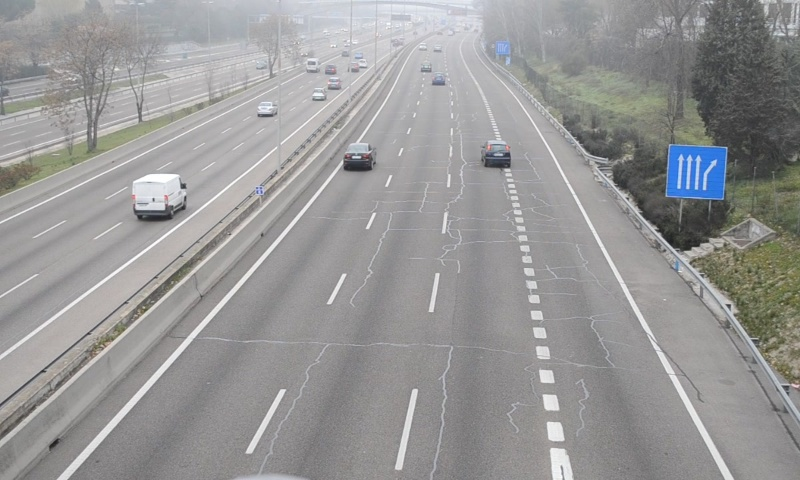car: (343, 143, 374, 169), (482, 140, 510, 165)
